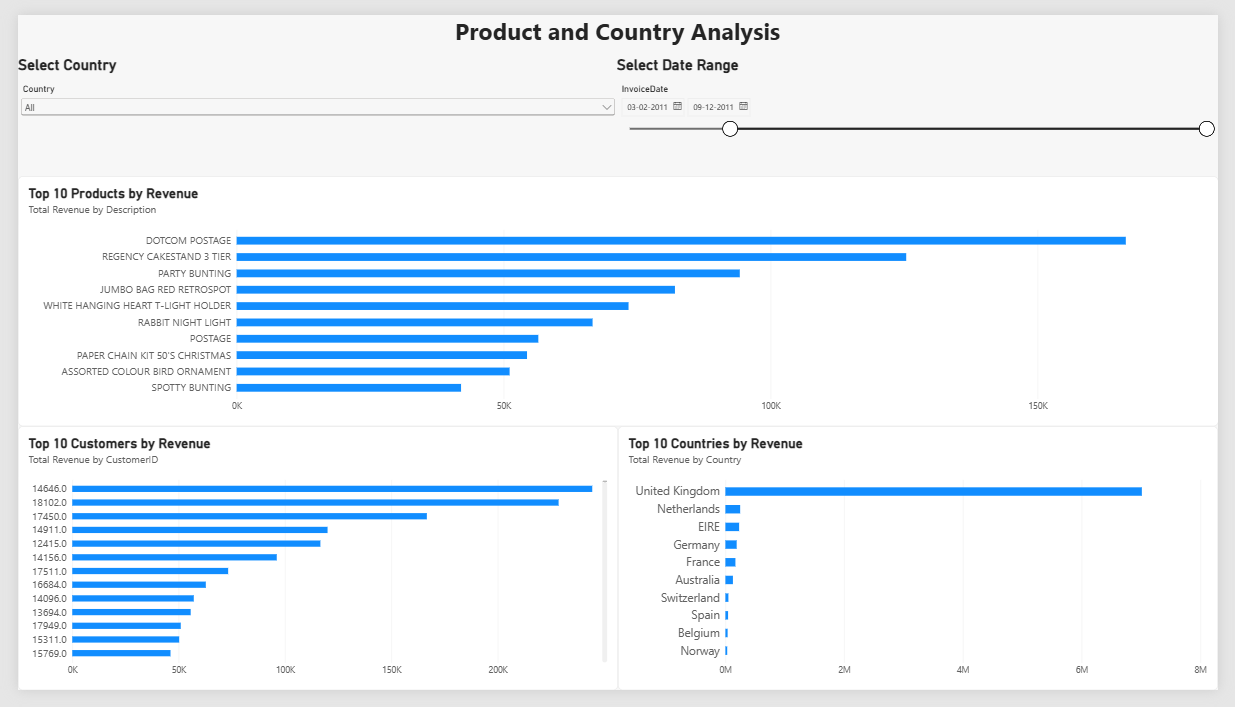

Layout of this report page (visuals, bound fields, positions):
{"tool":"powerbi","page":{"name":"Product and Country Analysis","canvas":[1920,1080],"ordinal":1},"visuals":[{"type":"clusteredBarChart","title":"Top 10 Products by Revenue","fields":{"Category":["sales.Description"],"Y":["sales.Total Revenue"]},"box":[0,258,1920.8,400],"z":0},{"type":"clusteredBarChart","title":"Top 10 Countries by Revenue","fields":{"Category":["sales.Country"],"Y":["sales.Total Revenue"]},"box":[960,658,960,422],"z":1000},{"type":"clusteredBarChart","title":"Top 10 Customers by Revenue","fields":{"Category":["sales.CustomerID"],"Y":["sales.Total Revenue"]},"box":[0,658,960,422],"z":2000},{"type":"slicer","title":"Select Country","fields":{"Values":["sales.Country"]},"box":[0,66,960,192],"z":3000},{"type":"slicer","title":"Select Date Range","fields":{"Values":["sales.InvoiceDate"]},"box":[958,66,960,192],"z":4000},{"type":"textbox","box":[0,0,1918.8,66.7],"z":4001}]}

Visuals, with their boxes in screenshot pixels (x1, y1, x2, y2), scaled from the page's 1920x1080 canvas onto the 1235x707 screenshot:
"Top 10 Products by Revenue" clusteredBarChart: (left=0, top=169, right=1234, bottom=431)
"Top 10 Countries by Revenue" clusteredBarChart: (left=618, top=431, right=1234, bottom=706)
"Top 10 Customers by Revenue" clusteredBarChart: (left=0, top=431, right=618, bottom=706)
"Select Country" slicer: (left=0, top=43, right=618, bottom=169)
"Select Date Range" slicer: (left=616, top=43, right=1234, bottom=169)
textbox: (left=0, top=0, right=1234, bottom=44)
